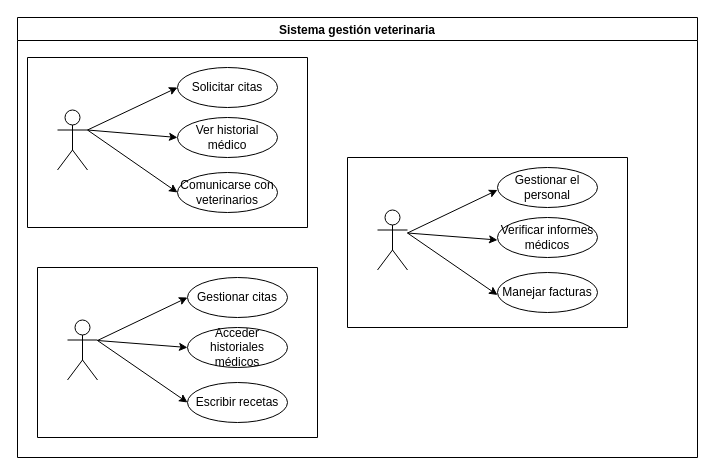
The diagram is 715 pixels wide and 475 high, and some of its shapes have lost their labels. Each missing label, with the box of its shape:
Administradores: (376, 209, 408, 270)
Pacientes: (56, 109, 88, 170)
Veterinarios: (66, 319, 98, 380)
